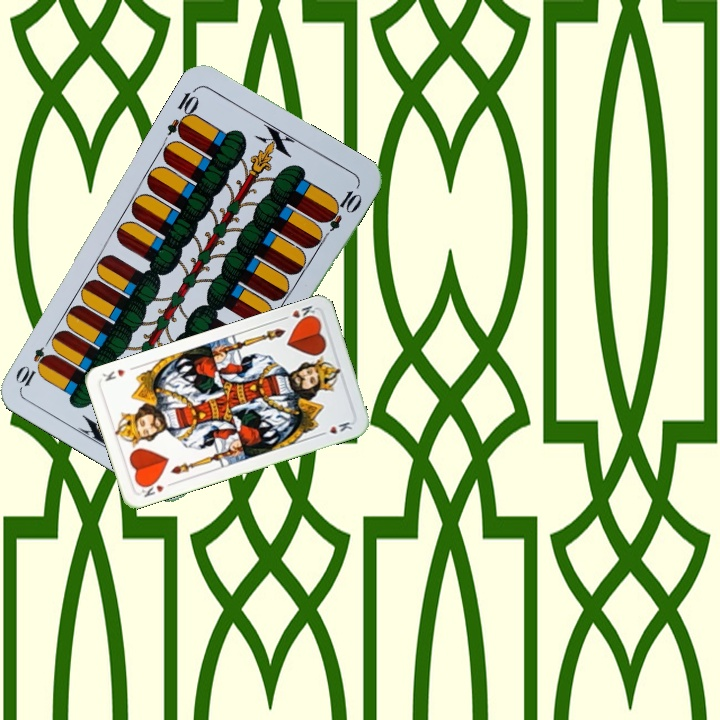E10: (163, 84, 202, 141)
HK: (278, 301, 318, 325), (136, 477, 176, 500)
